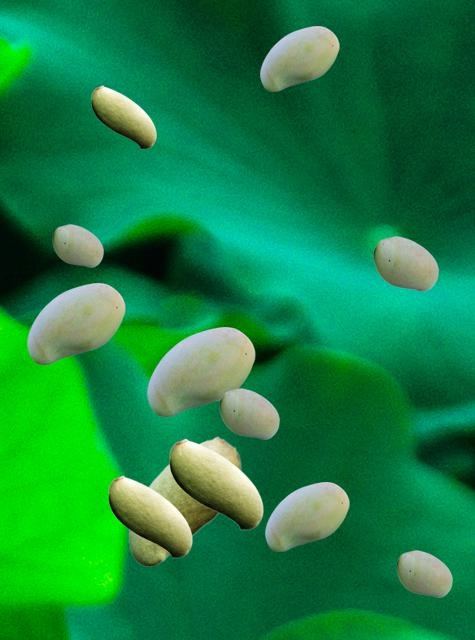green_mango: (128, 436, 240, 565), (147, 327, 254, 415), (169, 438, 262, 529), (27, 283, 124, 363), (108, 475, 191, 557), (265, 482, 348, 550), (260, 26, 338, 90), (91, 85, 155, 148), (373, 236, 437, 290), (219, 388, 278, 438), (396, 550, 451, 596), (52, 224, 102, 266)
